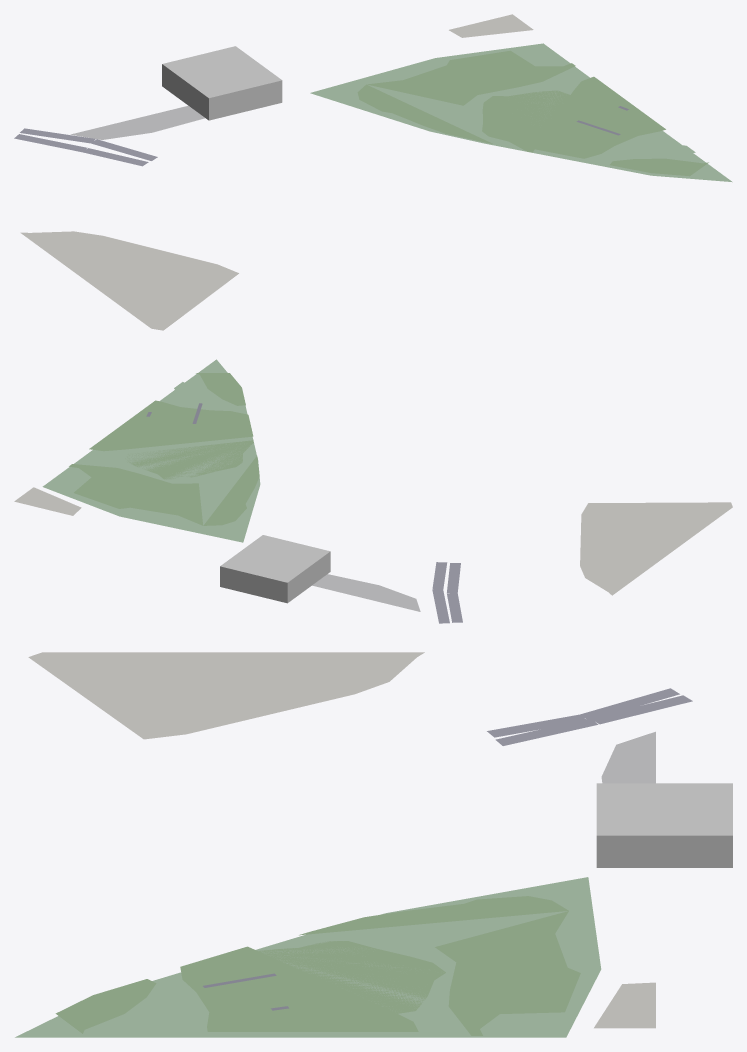
The model's file is 130_124_mid.glb.
The picture shows the model from 3 angles, top to bottom: view 1: azimuth 30°, elevation 25°; view 2: azimuth 150°, elevation 25°; view 3: azimuth 270°, elevation 25°; orthographic projection. The views are drawn at different scales.
Size of the model in its own units: 500 by 25.78 by 374.
